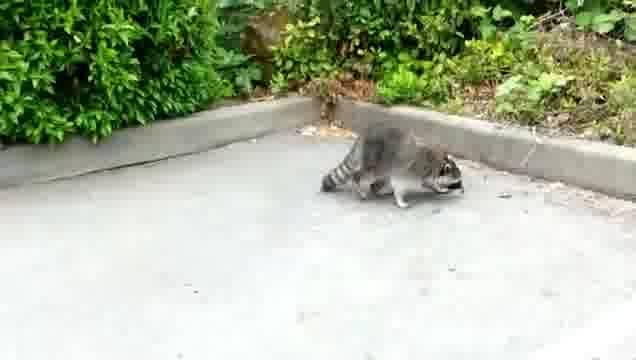raccoon: (322, 123, 467, 211)
